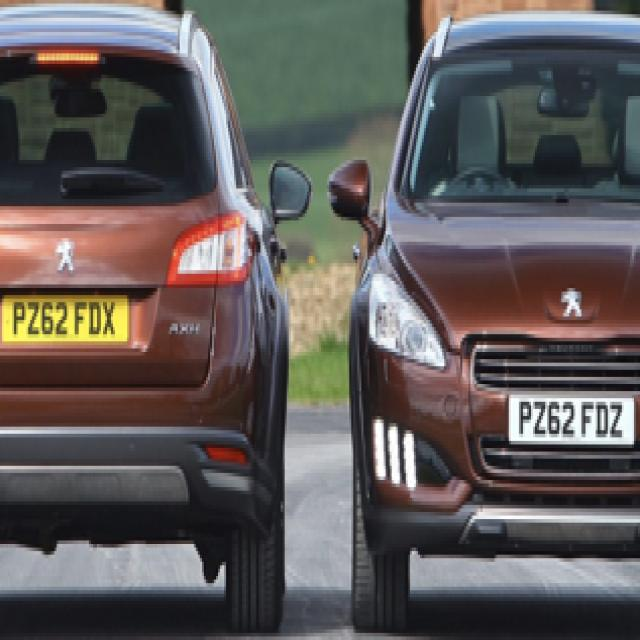license_plate: (2, 299, 129, 345), (511, 398, 636, 444)
